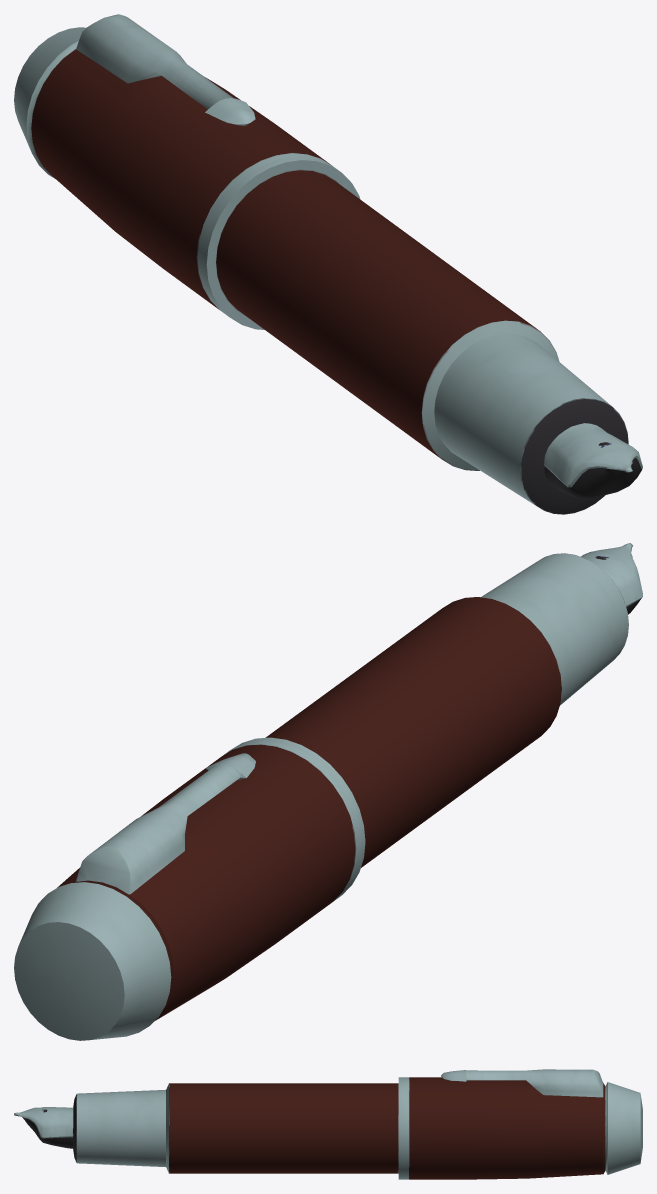
File: toll.fbx
3 renders of one model, top to bottom at view 1: azimuth 30°, elevation 25°; view 2: azimuth 150°, elevation 25°; view 3: azimuth 270°, elevation 25°, orthographic. The views are drawn at different scales.
Visible parts, largest first — view 1: Circle; view 2: Circle; view 3: Circle.
Boxes of the visible parts, bbox=[...] form: Circle: bbox=[14, 14, 642, 514]; Circle: bbox=[14, 543, 642, 1040]; Circle: bbox=[14, 1069, 642, 1179].
Size of the model in its own units: 5.23 by 5.84 by 32.17.
Materials: 1 (1 with a texture image).
